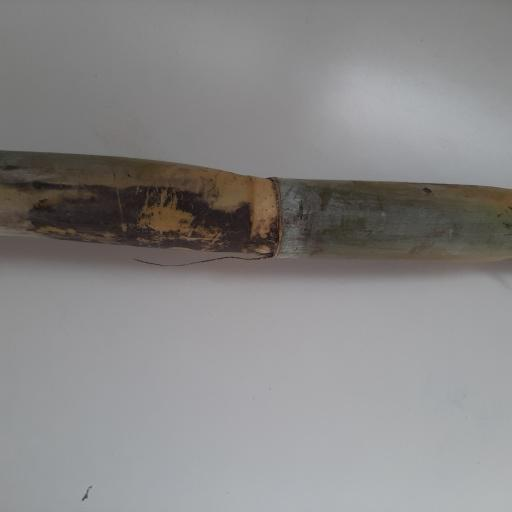Bud: (246, 239, 277, 254)
